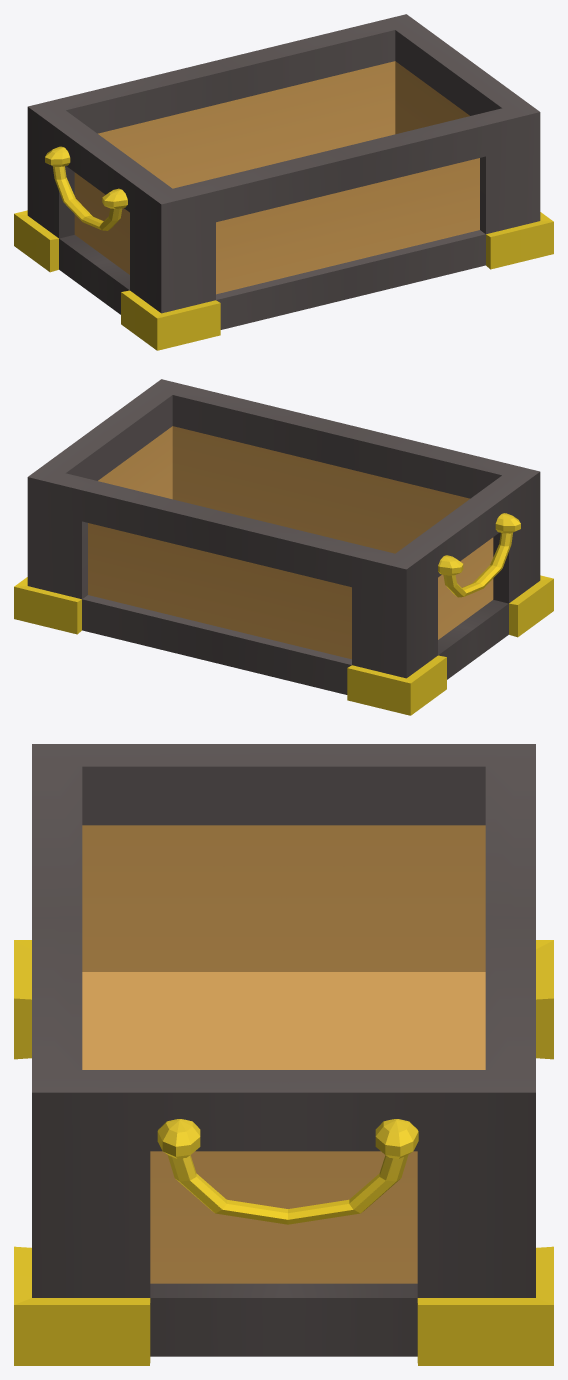
The model's file is Safe Chest 3 Bottom.fbx.
3 views of the same model, one above another, from view 1: azimuth 30°, elevation 25°; view 2: azimuth 150°, elevation 25°; view 3: azimuth 270°, elevation 25° (orthographic). The views are drawn at different scales.
Parts seen in each view (by area): view 1: Safe Chest 3 Bottom; view 2: Safe Chest 3 Bottom; view 3: Safe Chest 3 Bottom.
Part boxes in pixels (x1,y1,x2,y2): Safe Chest 3 Bottom: (14,14,553,350); Safe Chest 3 Bottom: (14,379,553,715); Safe Chest 3 Bottom: (14,744,553,1365).
Bounding box in the file's own units: 107 × 34.57 × 63.8.
